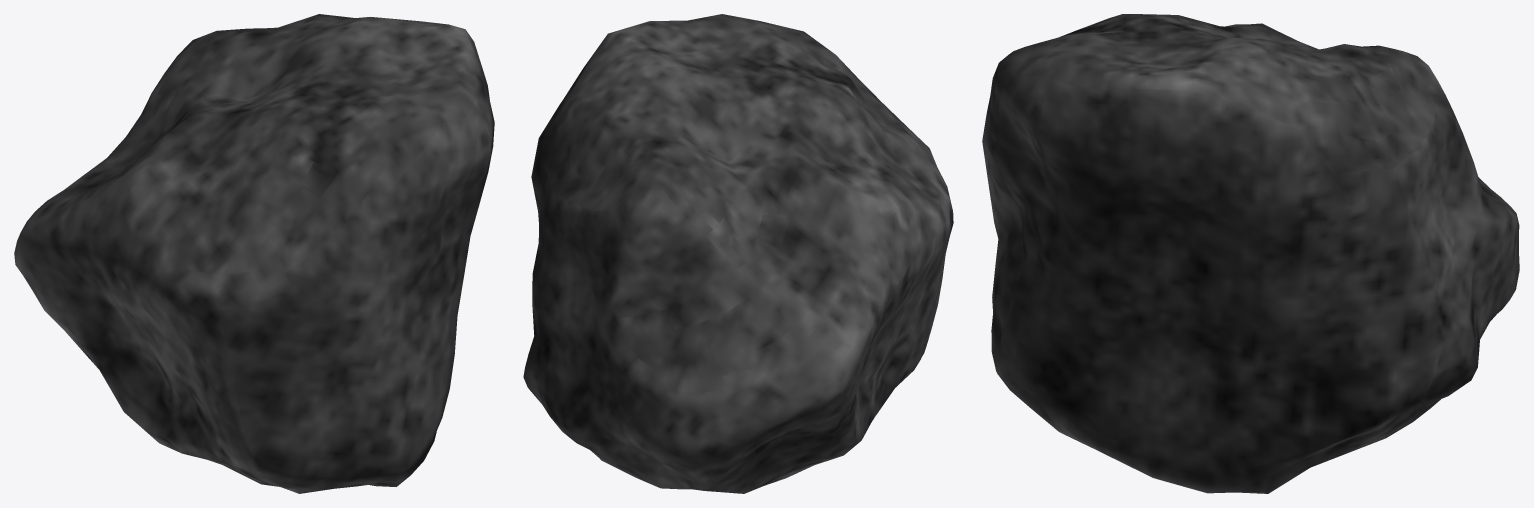
File: asteroid_4.glb
3 renders of one model, left to right at view 1: azimuth 30°, elevation 25°; view 2: azimuth 150°, elevation 25°; view 3: azimuth 270°, elevation 25°, orthographic. The views are drawn at different scales.
Visible parts, largest first — view 1: asteroid_4; view 2: asteroid_4; view 3: asteroid_4.
Boxes of the visible parts, x1,y1,x2,y2 form: asteroid_4: [14, 14, 494, 493]; asteroid_4: [523, 14, 953, 493]; asteroid_4: [982, 14, 1519, 493].
Bounding box in the file's own units: 1.44 × 1.52 × 1.64.
Materials: 1 (1 with a texture image).
